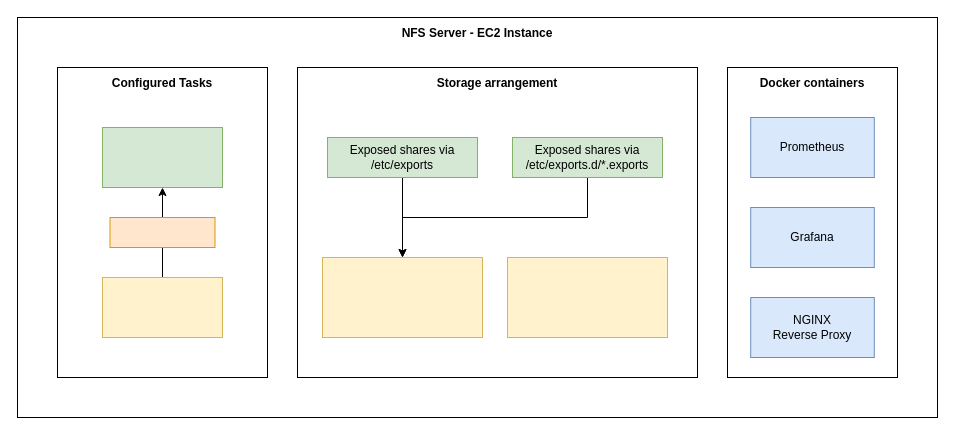
This 955x435 diagram has some shape labels left out. Here are the shapes that lost their labels. From the top down, the centre of each, then its label:
At (162,157): "Create NFS report HTML".
At (162,232): "Every 5 minutes".
At (162,307): "Cron for user centos".
At (402,297): "NFS Storage directory: /mnt/storage (/dev/nvme0n1)".
At (587,297): "System root: / (/dev/xvda1)".
